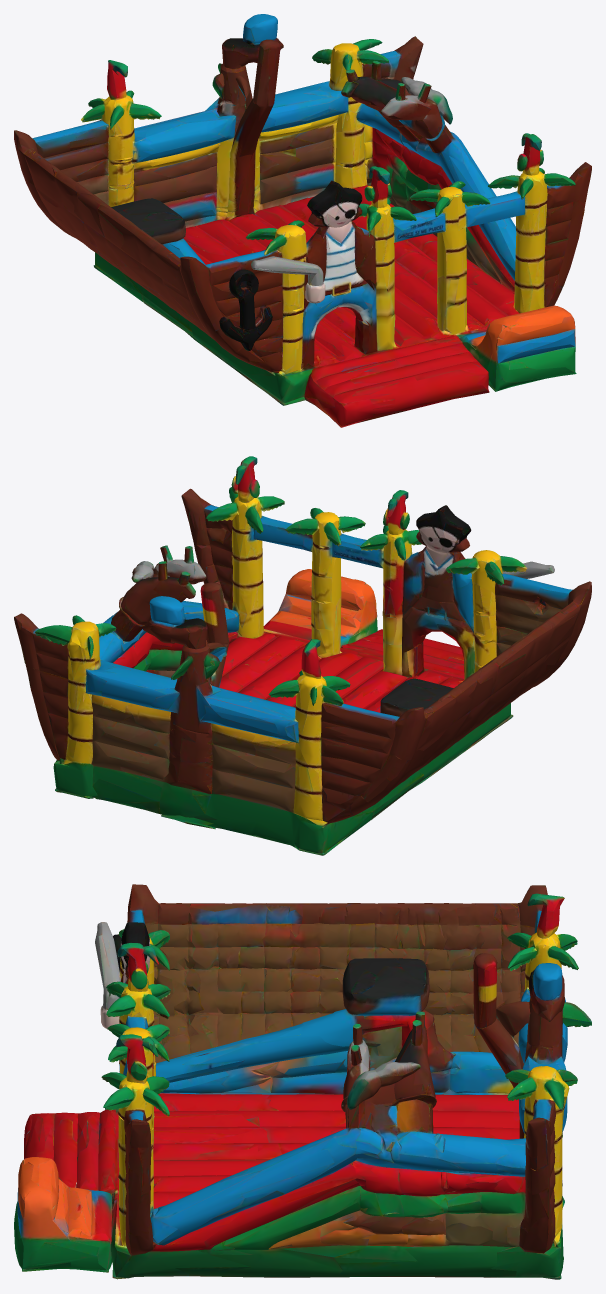
The picture shows the model from 3 angles, top to bottom: view 1: azimuth 30°, elevation 25°; view 2: azimuth 150°, elevation 25°; view 3: azimuth 270°, elevation 25°; orthographic projection. The views are drawn at different scales.
Size of the model in its own units: 1.82 by 0.9234 by 1.9.
1 material, 1 textured.
